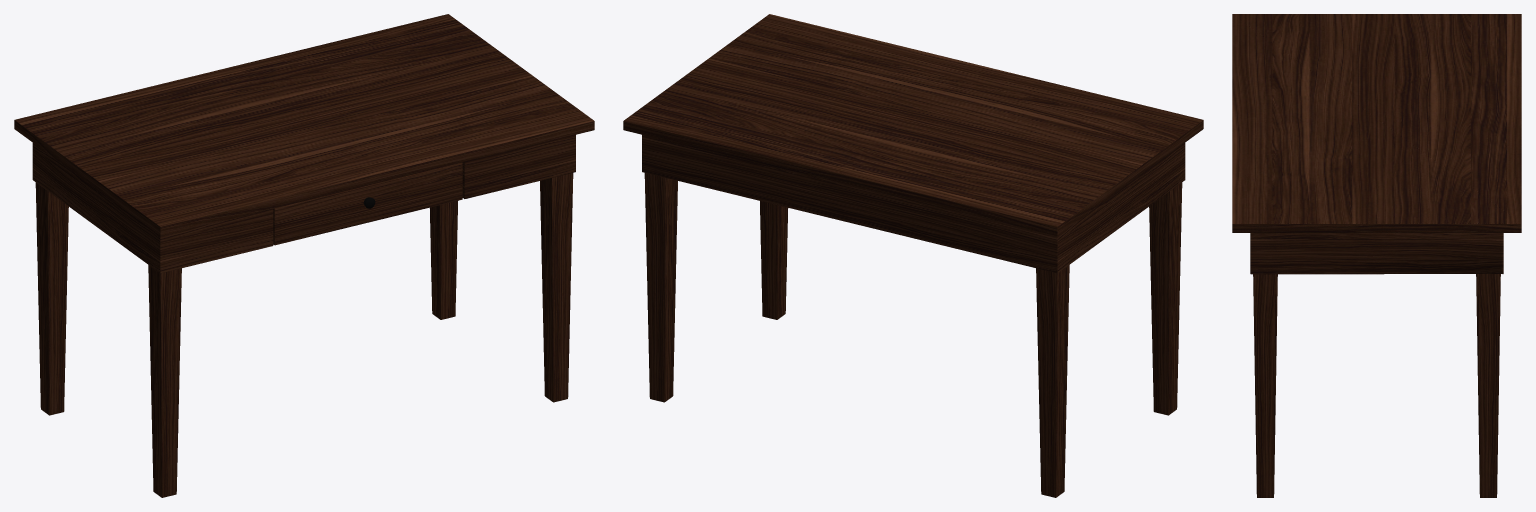
The model's file is Unity2Skfb.gltf.
3 views of the same model, side by side, from view 1: azimuth 30°, elevation 25°; view 2: azimuth 150°, elevation 25°; view 3: azimuth 270°, elevation 25° (orthographic).
Parts seen in each view (by area): view 1: node_not_clear_obj_0_v6_-3836; view 2: node_not_clear_obj_0_v6_-3836; view 3: node_not_clear_obj_0_v6_-3836.
Boxes of the visible parts, x1,y1,x2,y2 form: node_not_clear_obj_0_v6_-3836: (14,14,594,497); node_not_clear_obj_0_v6_-3836: (623,14,1203,497); node_not_clear_obj_0_v6_-3836: (1232,14,1521,497).
Size of what is drawn, in the model's own units: 1.22 by 0.7619 by 0.7112.
2 materials, 2 textured.
